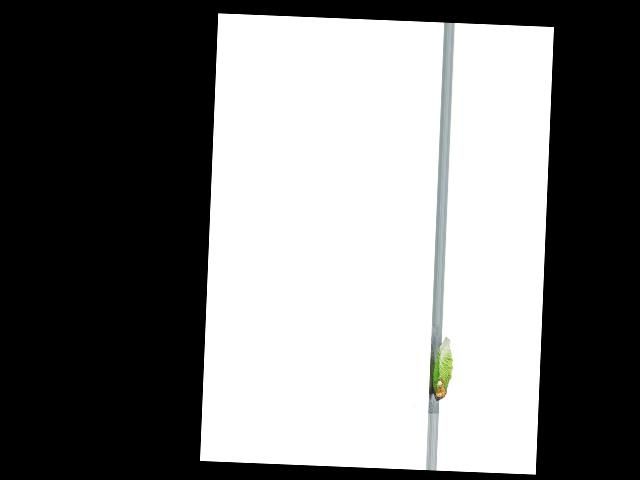lettuce: (428, 335, 456, 404)
